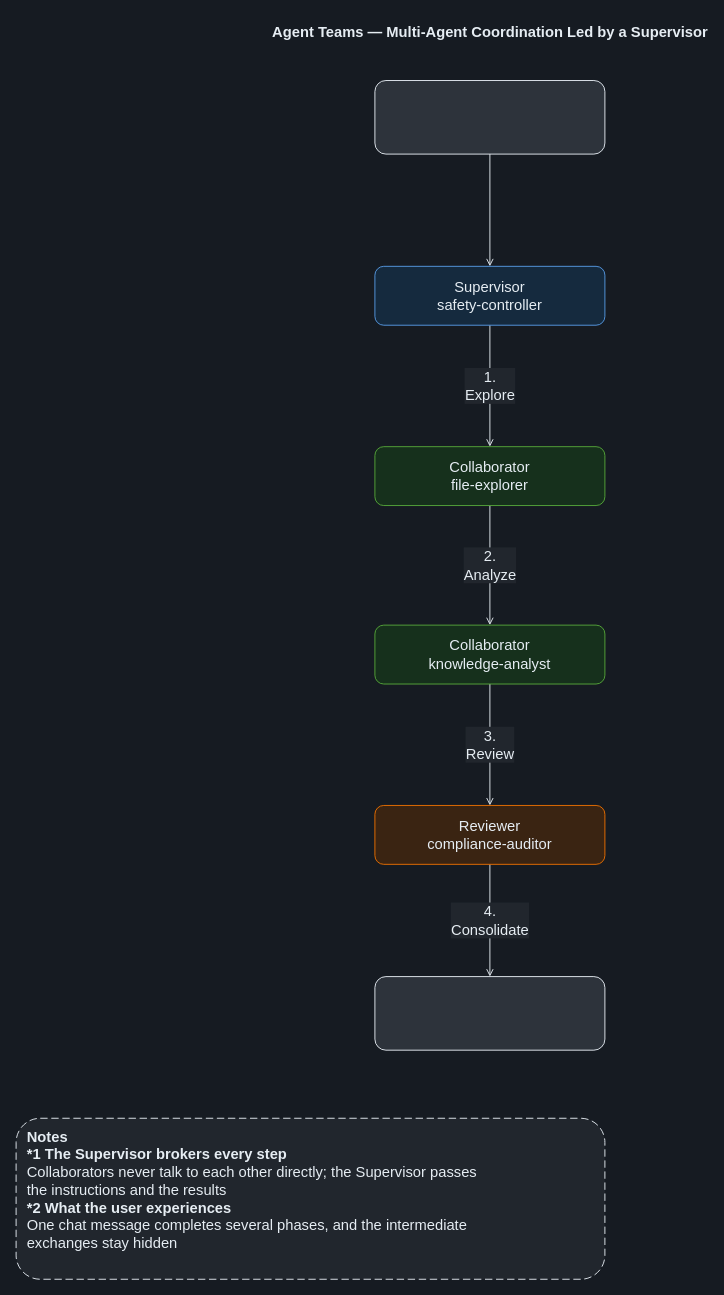
The diagram is 724 pixels wide and 1295 high, and some of its shapes have lost their labels. The box of each missing label's shape, as (x1, y1, x2, y2) in pixels:
Final answer to the user Summary + filtered results: (374, 976, 605, 1050)
User request "Analyze engineering/": (374, 80, 605, 154)
